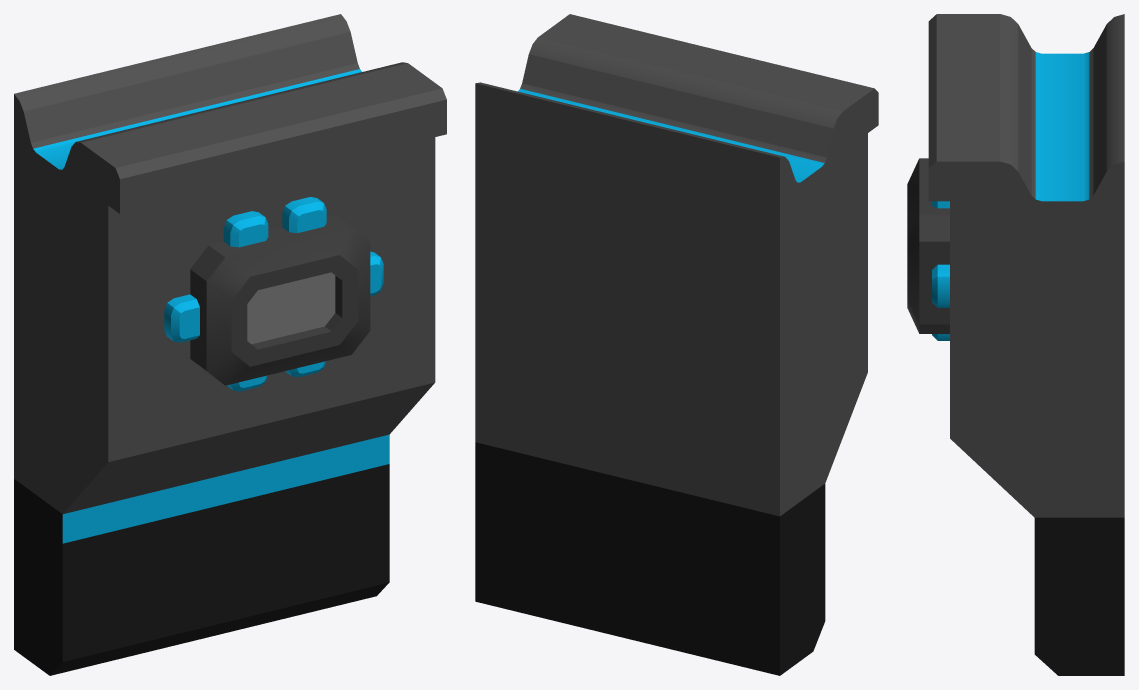
File: Floor_Edge_01D.fbx
3 renders of one model, left to right at view 1: azimuth 30°, elevation 25°; view 2: azimuth 150°, elevation 25°; view 3: azimuth 270°, elevation 25°, orthographic. The views are drawn at different scales.
Parts seen in each view (by area): view 1: Floor_Edge_01D; view 2: Floor_Edge_01D; view 3: Floor_Edge_01D.
Part boxes in pixels (x1,y1,x2,y2): Floor_Edge_01D: (14,14,446,675); Floor_Edge_01D: (475,14,878,675); Floor_Edge_01D: (907,14,1124,675).
Bounding box in the file's own units: 400 × 650 × 249.
